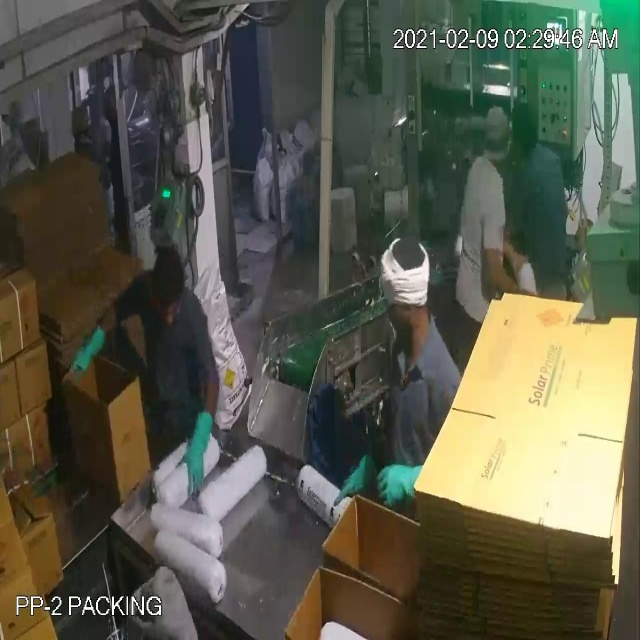Guantes: (373, 460, 440, 532), (177, 394, 221, 501), (329, 443, 383, 519), (53, 320, 113, 387)
Sin_guantes: (477, 245, 529, 304)
